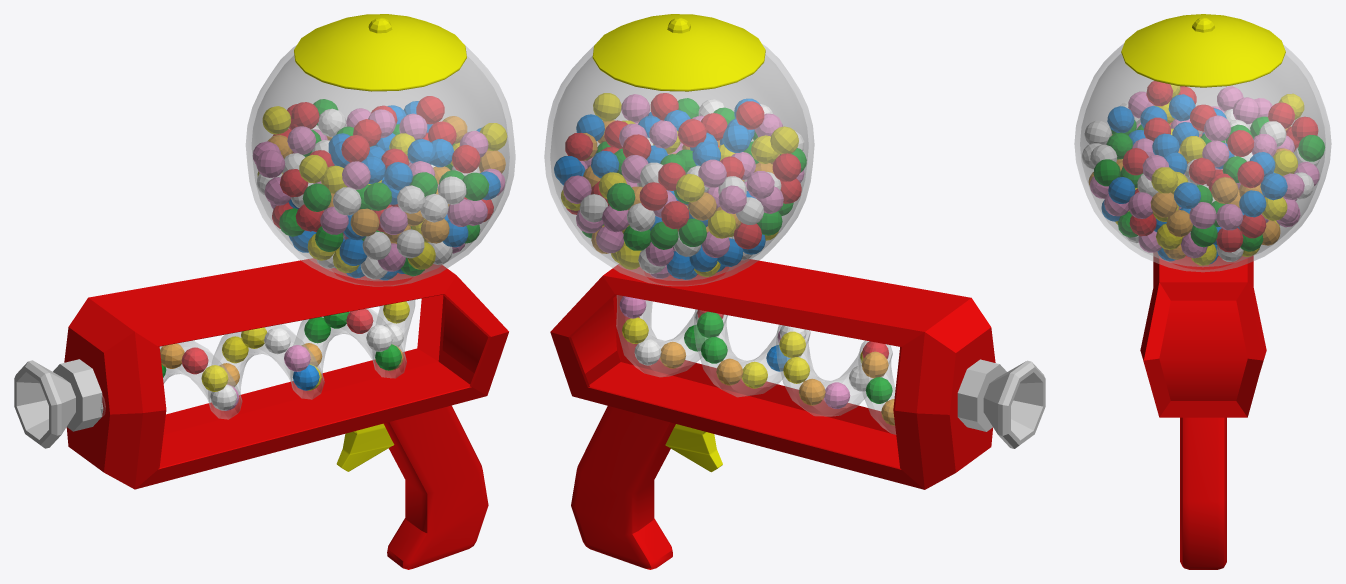
File: bubblegun3.fbx
3 views of the same model, side by side, from view 1: azimuth 30°, elevation 25°; view 2: azimuth 150°, elevation 25°; view 3: azimuth 270°, elevation 25° (orthographic). The views are drawn at different scales.
Parts seen in each view (by area): view 1: polySurface16, polySurface491, polySurface18, polySurface19, pSphere722, polySurface4, polySurface36, polySurface304, polySurface402, polySurface382, polySurface324, polySurface326 (+14 smaller); view 2: polySurface16, polySurface491, polySurface18, polySurface19, pSphere722, polySurface4, polySurface36, polySurface413, polySurface341, polySurface328, polySurface456, polySurface467 (+13 smaller); view 3: polySurface491, polySurface16, pSphere722, polySurface19, polySurface409, polySurface416, polySurface396, polySurface460, polySurface422, polySurface483, polySurface278, polySurface399 (+47 smaller).
Part boxes in pixels (x1=…): polySurface16: x1=64, y1=258, x2=508, y2=489; polySurface491: x1=245, y1=44, x2=515, y2=286; polySurface18: x1=101, y1=300, x2=415, y2=419; polySurface19: x1=384, y1=405, x2=488, y2=569; pSphere722: x1=294, y1=14, x2=466, y2=91; polySurface4: x1=14, y1=359, x2=102, y2=448; polySurface36: x1=336, y1=423, x2=394, y2=471; polySurface304: x1=333, y1=187, x2=361, y2=215; polySurface402: x1=342, y1=161, x2=370, y2=189; polySurface382: x1=397, y1=229, x2=424, y2=258; polySurface324: x1=452, y1=145, x2=480, y2=173; polySurface326: x1=299, y1=155, x2=327, y2=183; polySurface16: x1=550, y1=259, x2=995, y2=489; polySurface491: x1=544, y1=44, x2=814, y2=286; polySurface18: x1=616, y1=295, x2=896, y2=434; polySurface19: x1=571, y1=406, x2=675, y2=569; pSphere722: x1=592, y1=14, x2=765, y2=91; polySurface4: x1=957, y1=359, x2=1045, y2=448; polySurface36: x1=665, y1=424, x2=722, y2=472; polySurface413: x1=772, y1=153, x2=800, y2=181; polySurface341: x1=639, y1=182, x2=667, y2=210; polySurface328: x1=676, y1=174, x2=704, y2=202; polySurface456: x1=723, y1=124, x2=750, y2=152; polySurface467: x1=736, y1=101, x2=764, y2=129; polySurface491: x1=1074, y1=43, x2=1331, y2=272; polySurface16: x1=1140, y1=134, x2=1266, y2=417; pSphere722: x1=1121, y1=14, x2=1285, y2=87; polySurface19: x1=1180, y1=417, x2=1226, y2=569; polySurface409: x1=1211, y1=177, x2=1238, y2=203; polySurface416: x1=1239, y1=190, x2=1266, y2=217; polySurface396: x1=1237, y1=161, x2=1264, y2=187; polySurface460: x1=1188, y1=157, x2=1215, y2=184; polySurface422: x1=1298, y1=135, x2=1324, y2=161; polySurface483: x1=1107, y1=106, x2=1134, y2=132; polySurface278: x1=1189, y1=202, x2=1216, y2=228; polySurface399: x1=1260, y1=173, x2=1287, y2=200.
Size of the model in its own units: 11.36 by 12.84 by 5.74.
